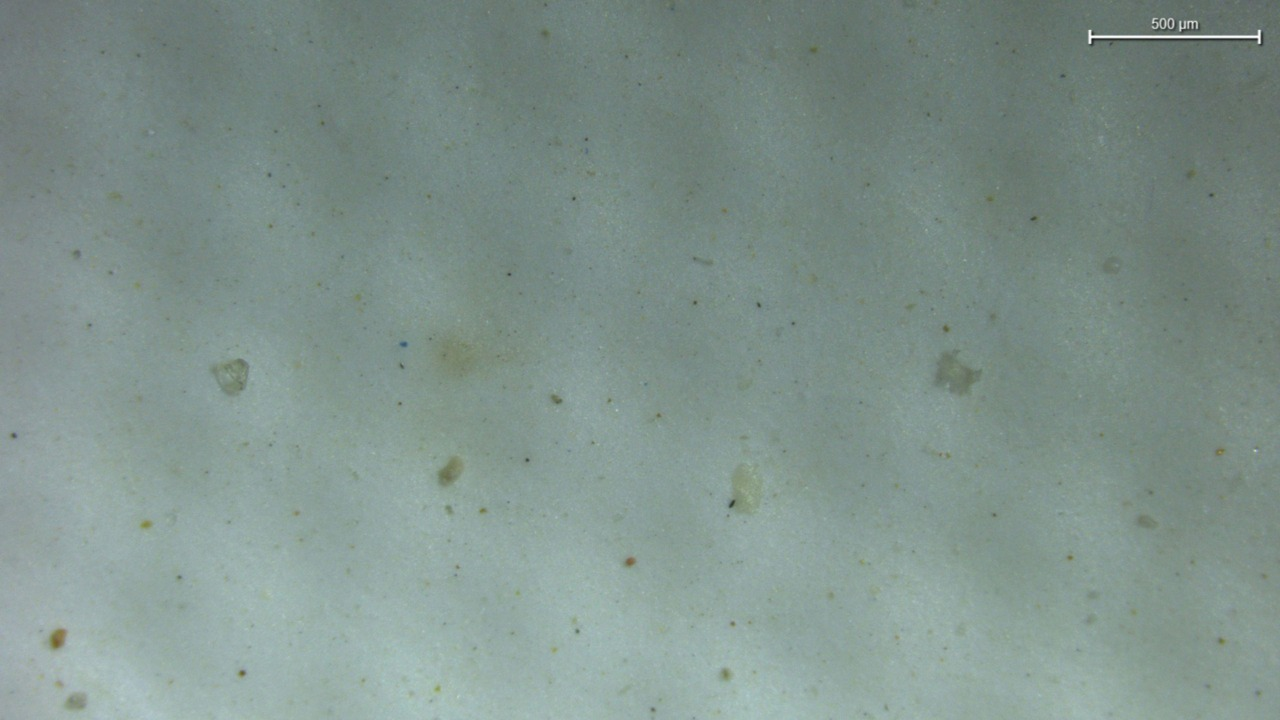microplastic_fragment: (934, 351, 981, 395), (211, 358, 249, 394)
